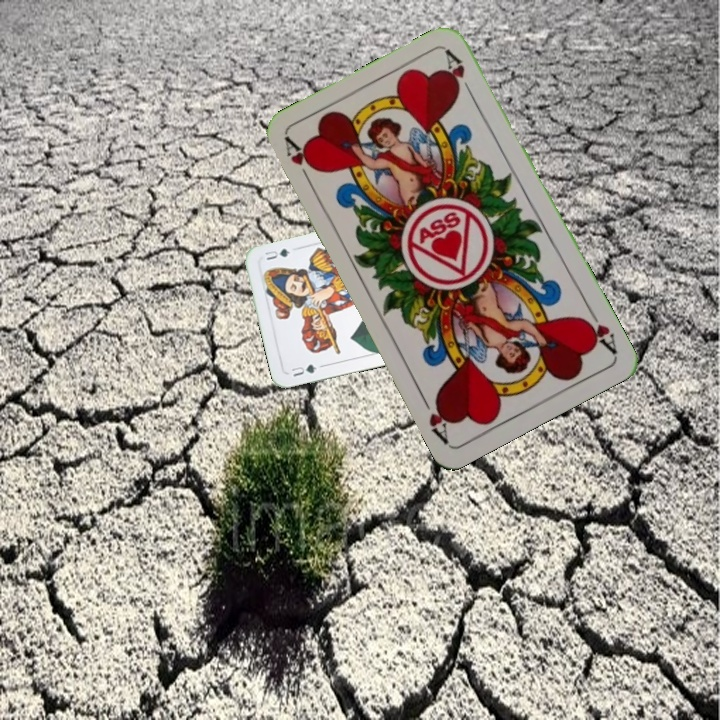GU: (287, 360, 319, 379)
HA: (577, 302, 620, 357), (280, 134, 319, 190)
